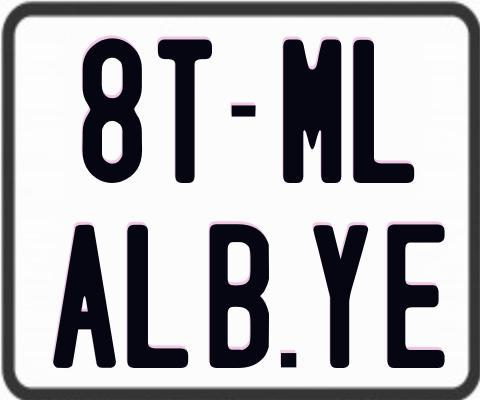8: (81, 35, 146, 185)
A: (52, 222, 115, 366)
B: (207, 223, 271, 367)
E: (386, 224, 445, 374)
L: (351, 39, 415, 186), (125, 223, 189, 367)
M: (280, 37, 344, 185)
T: (157, 38, 215, 186)
Y: (311, 225, 366, 374)
